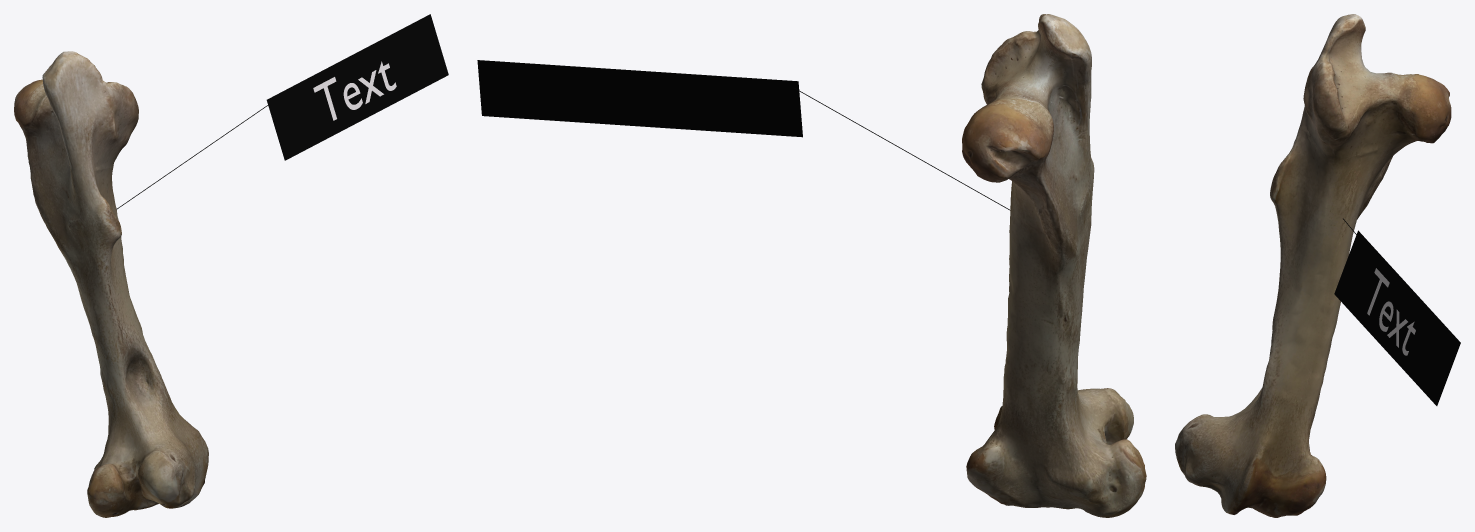
Rendered from Femur-editado.glb.
3 views of the same model, side by side, from view 1: azimuth 30°, elevation 25°; view 2: azimuth 150°, elevation 25°; view 3: azimuth 270°, elevation 25° (orthographic). The views are drawn at different scales.
Parts seen in each view (by area): view 1: Mesh_0, Plano, Texto; view 2: Mesh_0, Plano; view 3: Mesh_0, Plano, Texto.
Part boxes in pixels (x1,y1,x2,y2): Mesh_0: [14, 51, 208, 517]; Plano: [266, 14, 448, 160]; Texto: [313, 61, 396, 120]; Mesh_0: [962, 14, 1146, 517]; Plano: [477, 60, 802, 137]; Mesh_0: [1175, 14, 1451, 517]; Plano: [1334, 230, 1460, 405]; Texto: [1367, 268, 1415, 355].
Size of the model in its own units: 2.03 by 1.88 by 1.03.
3 materials, 1 textured.
